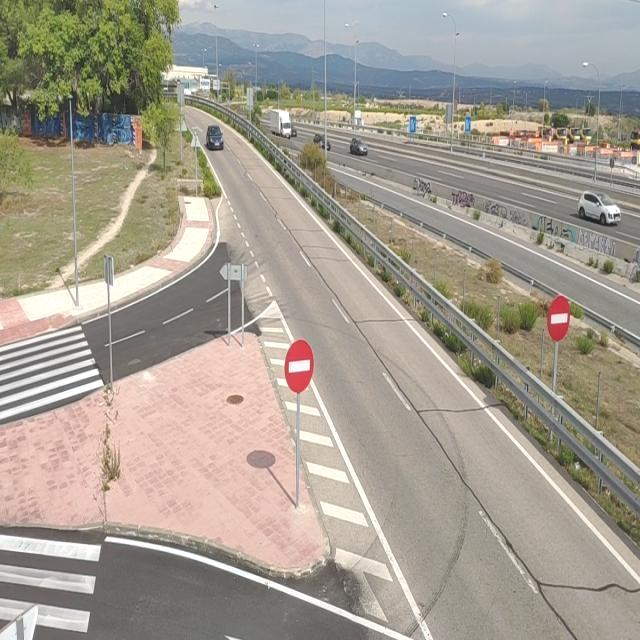Car: (576, 188, 620, 226), (205, 126, 225, 151), (351, 138, 369, 156), (313, 134, 331, 150), (292, 123, 299, 137)
Truck: (270, 109, 293, 139)
